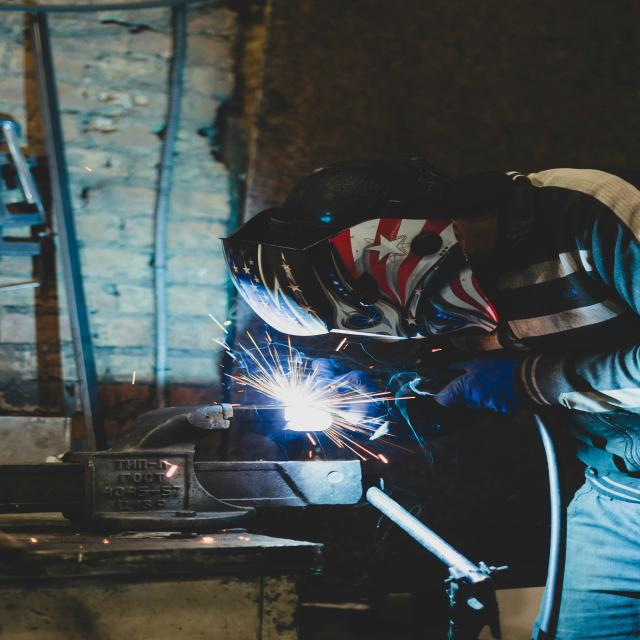with_helmet: (176, 147, 640, 365)
